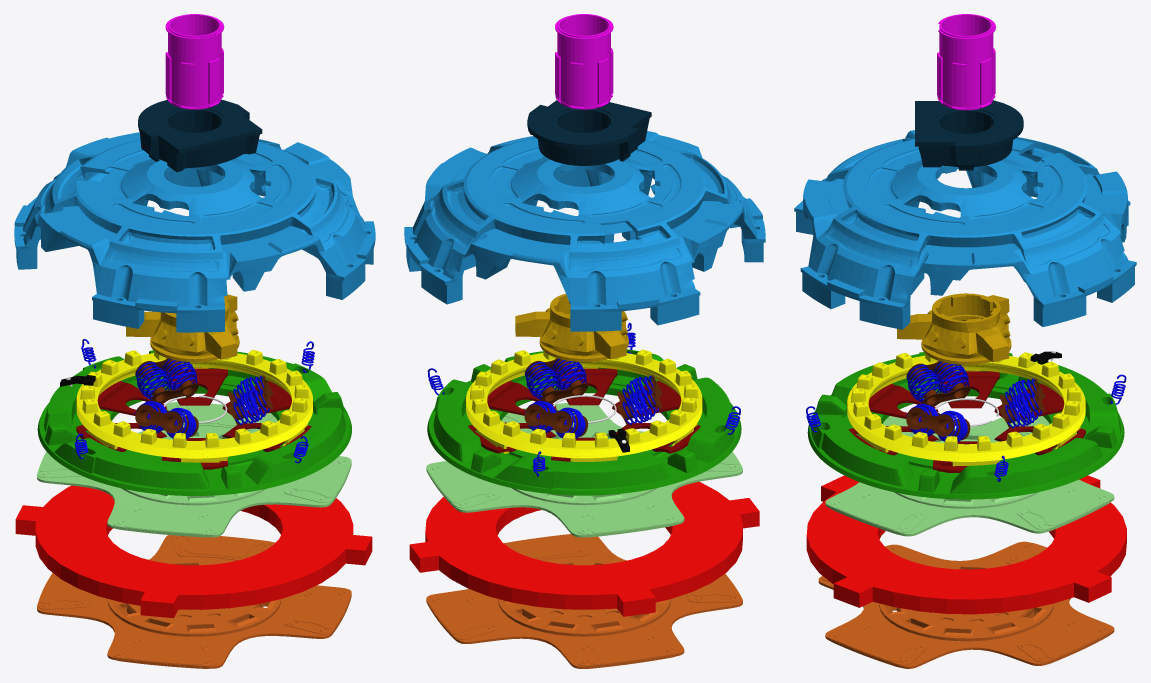
Rendered from caddybox-BOpvjAtV.glb.
3 views of the same model, side by side, from view 1: azimuth 30°, elevation 25°; view 2: azimuth 150°, elevation 25°; view 3: azimuth 270°, elevation 25° (orthographic).
Parts seen in each view (by area): view 1: Clutch_Housing, Intermediate_Plate, Clutch_Disc_01, Cylinder008, Clutch_Disc_02, Adjusting_Ring, Object005, Cylinder009, Spring, Plate, Cylinder011, Spring_Cap; view 2: Clutch_Housing, Intermediate_Plate, Clutch_Disc_01, Cylinder008, Clutch_Disc_02, Adjusting_Ring, Object005, Cylinder009, Spring, Cylinder011, Plate, Spring_Cap; view 3: Clutch_Housing, Intermediate_Plate, Cylinder008, Clutch_Disc_01, Adjusting_Ring, Clutch_Disc_02, Cylinder011, Object005, Cylinder009, Spring, Plate, Spring_Cap.
Part boxes in pixels (bbox=[...]): Clutch_Housing: bbox=[14, 132, 375, 332]; Intermediate_Plate: bbox=[15, 485, 372, 618]; Clutch_Disc_01: bbox=[37, 535, 351, 668]; Cylinder008: bbox=[37, 350, 351, 495]; Clutch_Disc_02: bbox=[37, 402, 351, 537]; Adjusting_Ring: bbox=[76, 350, 312, 462]; Object005: bbox=[138, 99, 262, 172]; Cylinder009: bbox=[165, 14, 224, 109]; Spring: bbox=[74, 339, 314, 463]; Plate: bbox=[76, 368, 313, 469]; Cylinder011: bbox=[126, 294, 239, 362]; Spring_Cap: bbox=[135, 358, 272, 436]; Clutch_Housing: bbox=[404, 131, 765, 331]; Intermediate_Plate: bbox=[409, 481, 759, 616]; Clutch_Disc_01: bbox=[426, 534, 742, 668]; Cylinder008: bbox=[427, 349, 741, 495]; Clutch_Disc_02: bbox=[426, 403, 742, 537]; Adjusting_Ring: bbox=[466, 349, 702, 461]; Object005: bbox=[527, 100, 651, 165]; Cylinder009: bbox=[555, 14, 613, 109]; Spring: bbox=[427, 322, 740, 476]; Cylinder011: bbox=[515, 293, 628, 361]; Plate: bbox=[465, 368, 702, 461]; Spring_Cap: bbox=[524, 358, 662, 436]; Clutch_Housing: bbox=[794, 130, 1136, 329]; Intermediate_Plate: bbox=[806, 475, 1126, 614]; Cylinder008: bbox=[807, 352, 1124, 499]; Clutch_Disc_01: bbox=[818, 541, 1114, 668]; Adjusting_Ring: bbox=[847, 352, 1085, 466]; Clutch_Disc_02: bbox=[825, 410, 1114, 536]; Cylinder011: bbox=[897, 293, 1011, 364]; Object005: bbox=[915, 100, 1023, 170]; Cylinder009: bbox=[937, 14, 995, 110]; Spring: bbox=[806, 361, 1126, 481]; Plate: bbox=[847, 371, 1085, 472]; Spring_Cap: bbox=[906, 361, 1044, 440].
Bounding box in the file's own units: 0.1641 × 0.3131 × 0.1641.
